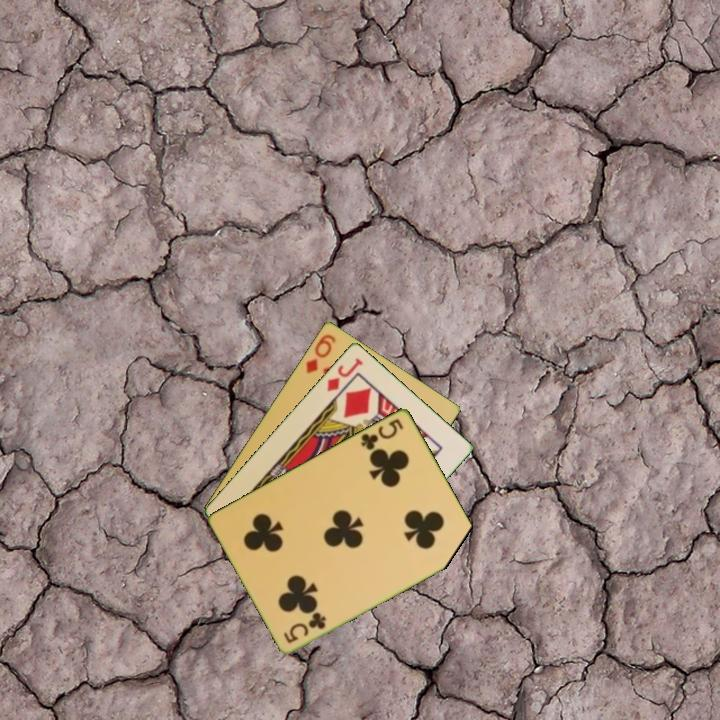5c: (357, 414, 406, 453), (280, 608, 329, 646)
6d: (302, 330, 339, 376)
Jd: (323, 354, 366, 394)
